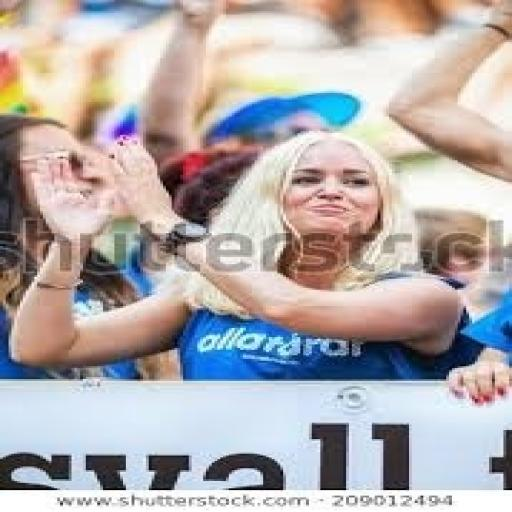clapping: (3, 126, 486, 381)
